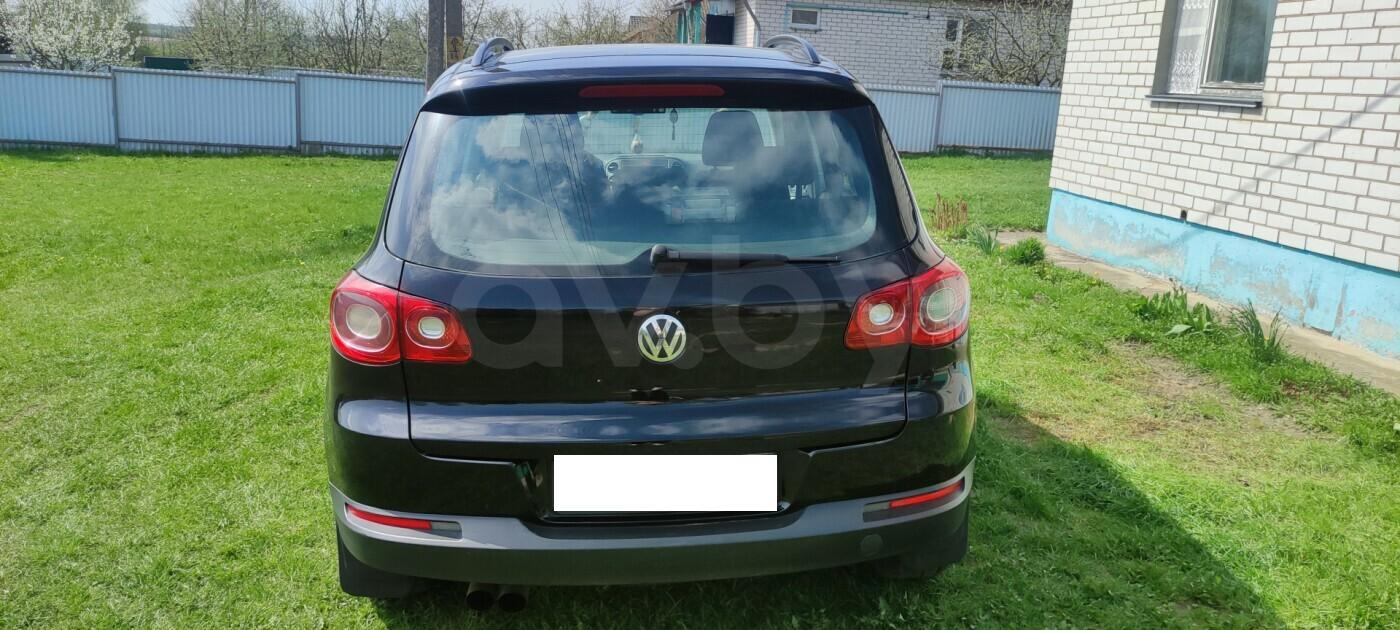Tiguan_2007-2011: (323, 37, 975, 612)
